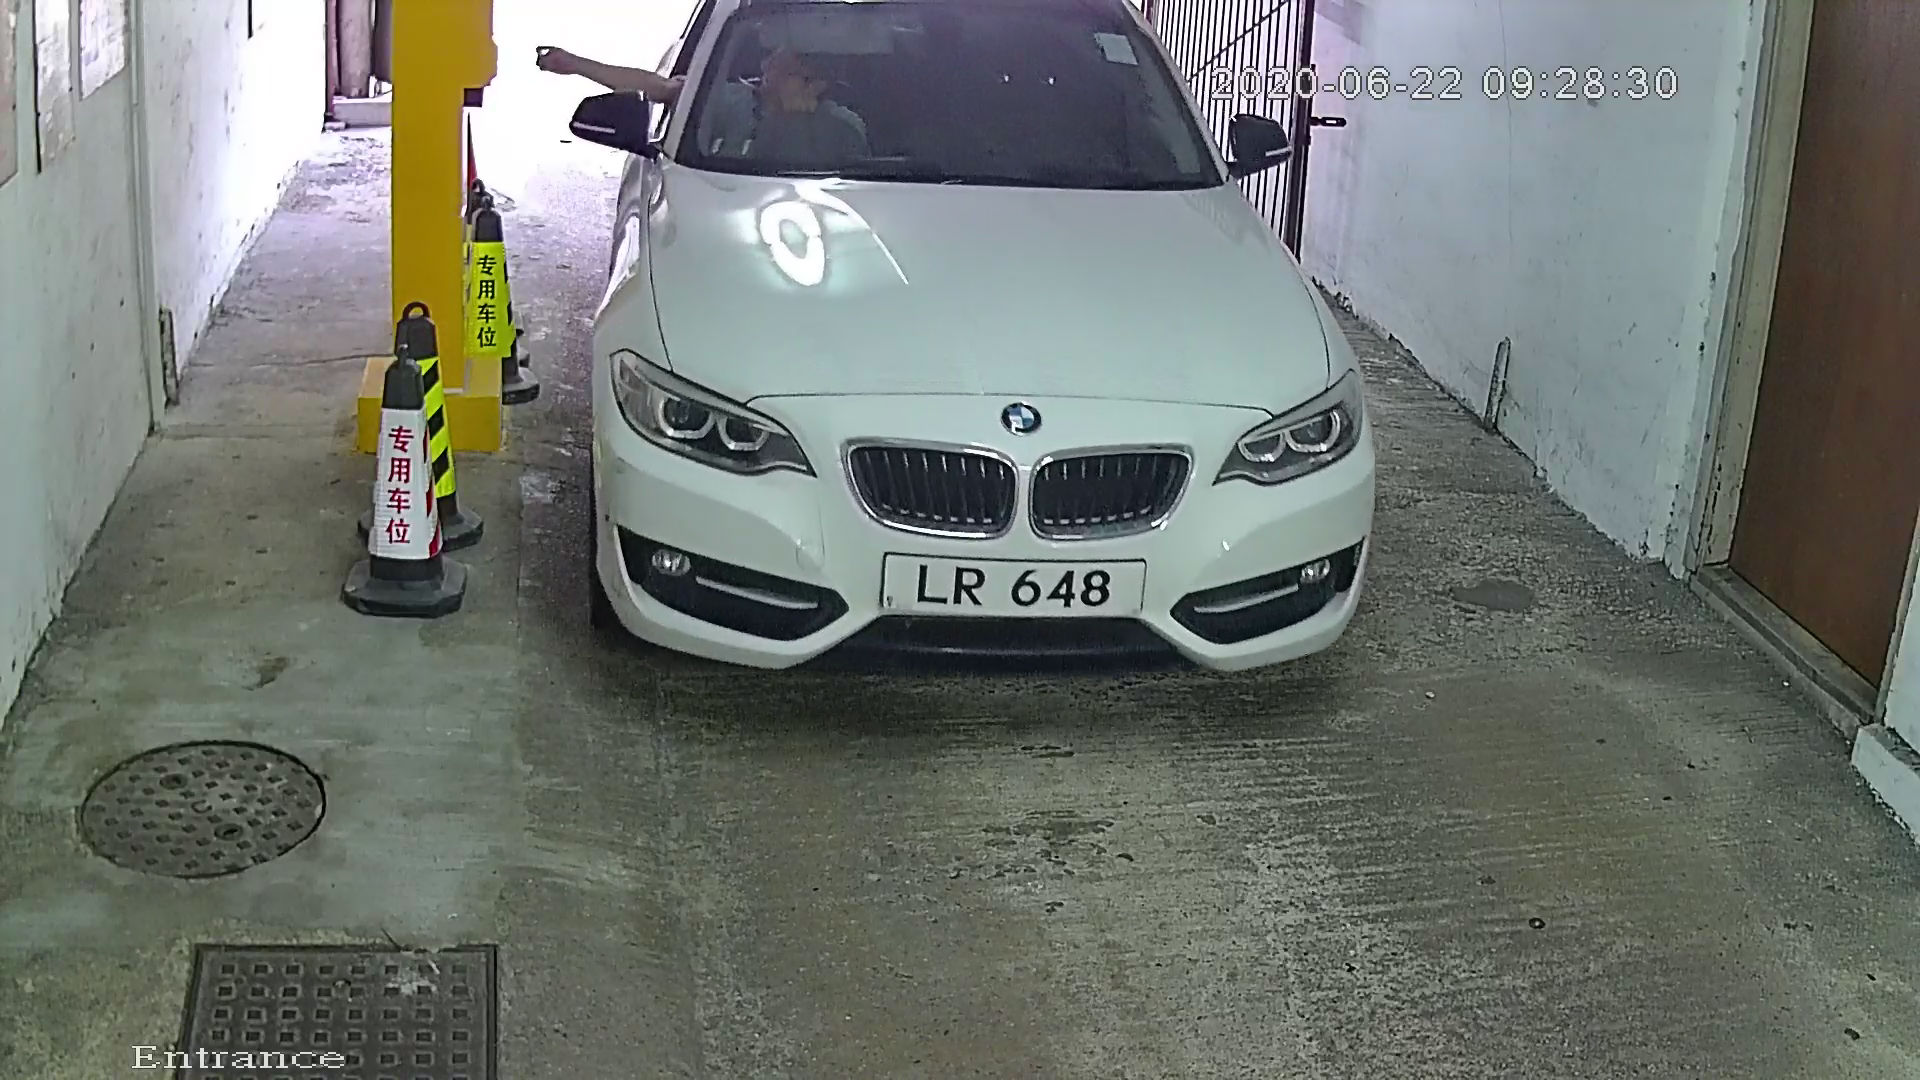privatecar: (483, 3, 1436, 766)
